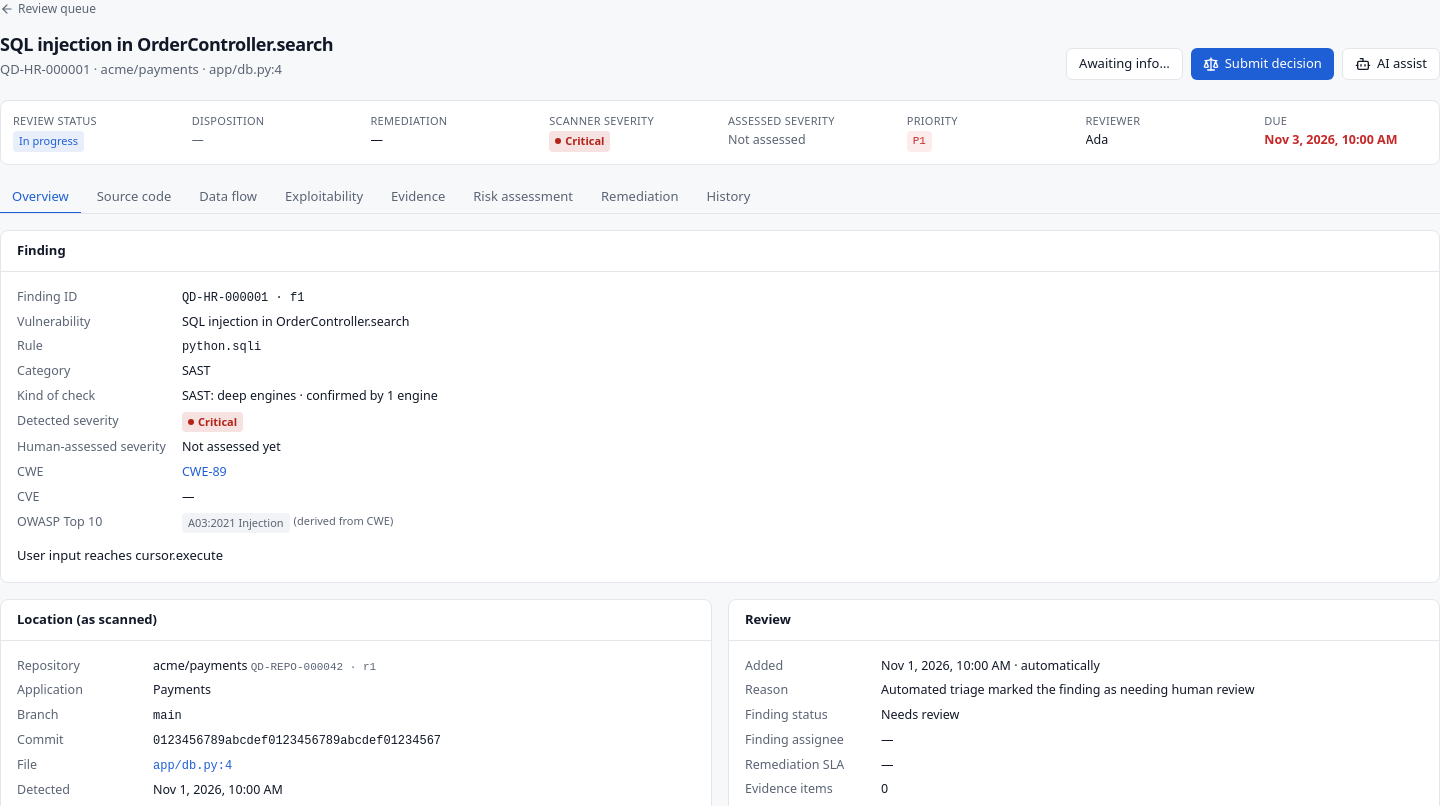
it: assessment workspace › submits a decision and shows the API's field errors
This screenshot has width=1440, height=806.
Click the button "Submit decision". click: (1262, 64)
box: [1191,48,1334,80]
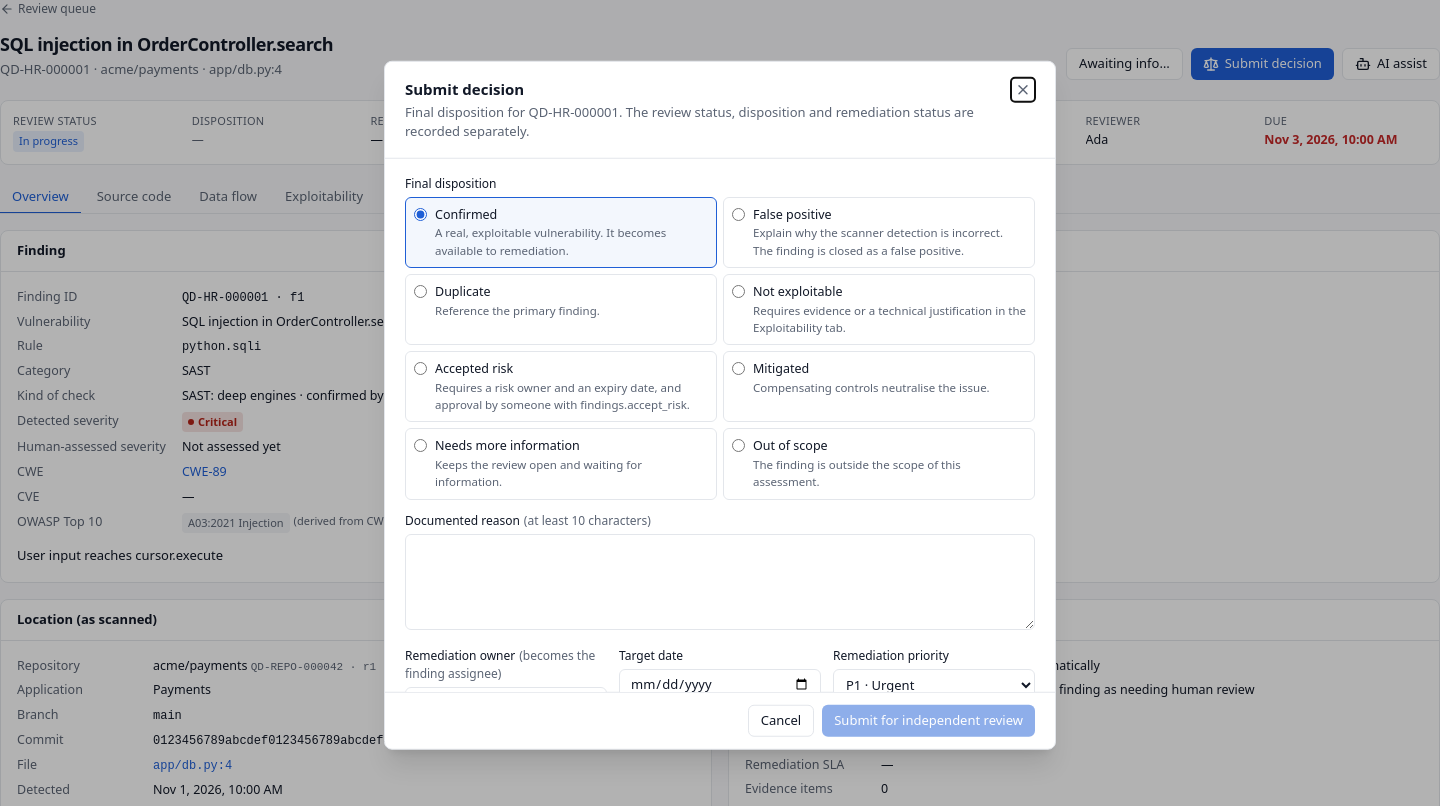
Click the radio button labelled "False positive". click: (738, 214)
box: [732,207,745,220]
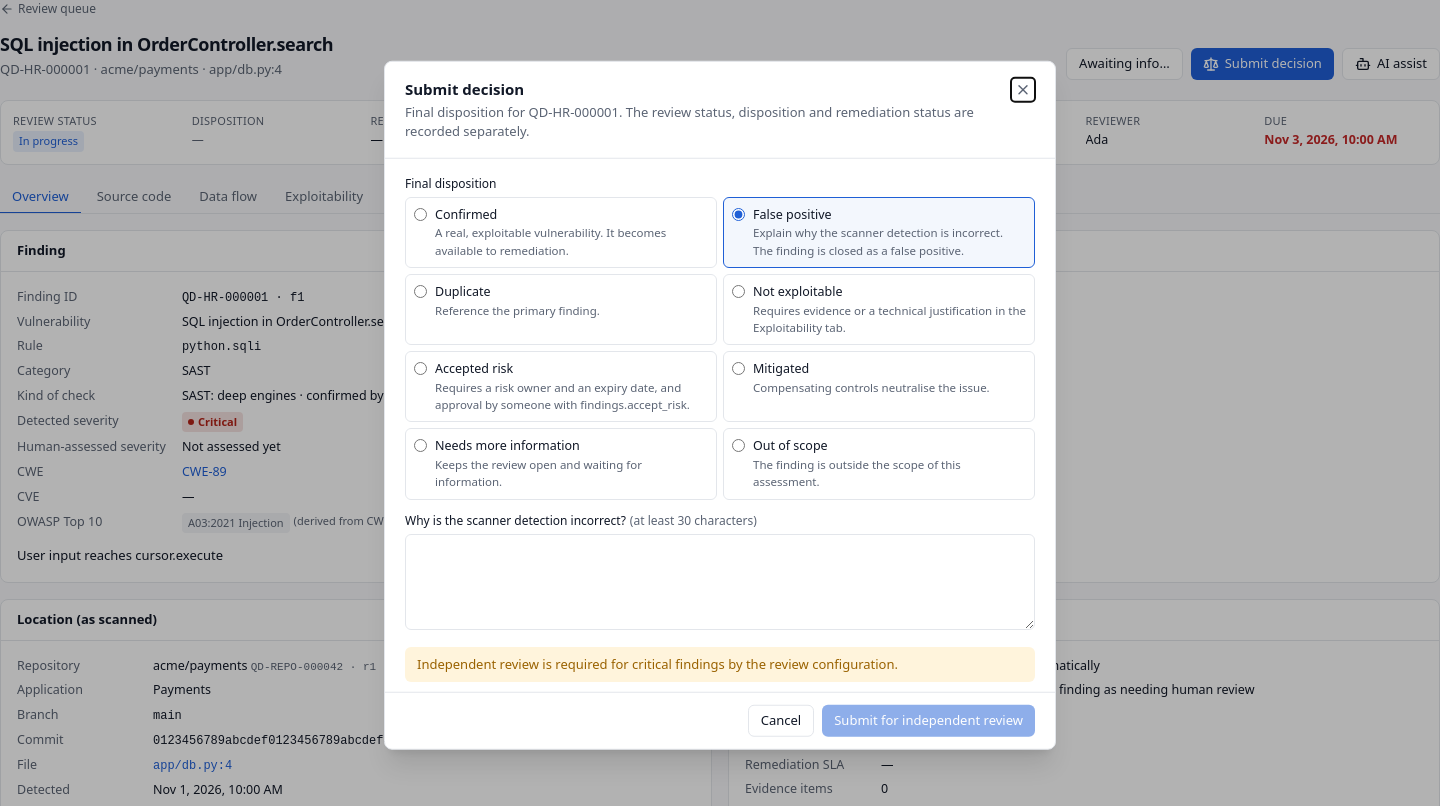
Result: the button "Submit for independent review" is disabled at [822,704,1035,736]
Type "The value comes from a constant allow-list." into the text box labelled "Why is the scanner detection incorrect". click: (720, 581)
box: [405,533,1035,629]
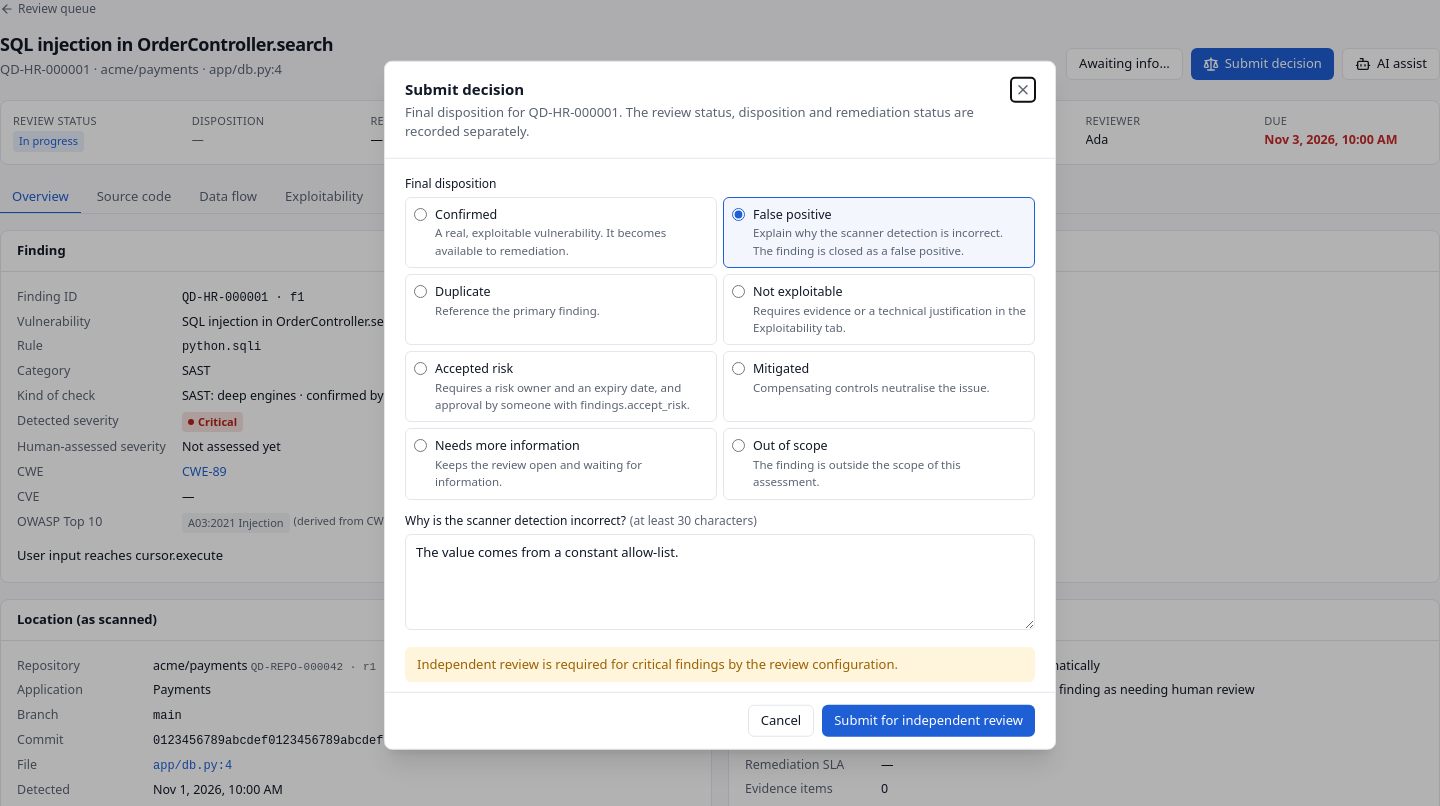
Click the button "Submit for independent review". click: (929, 720)
box: [822,704,1035,736]
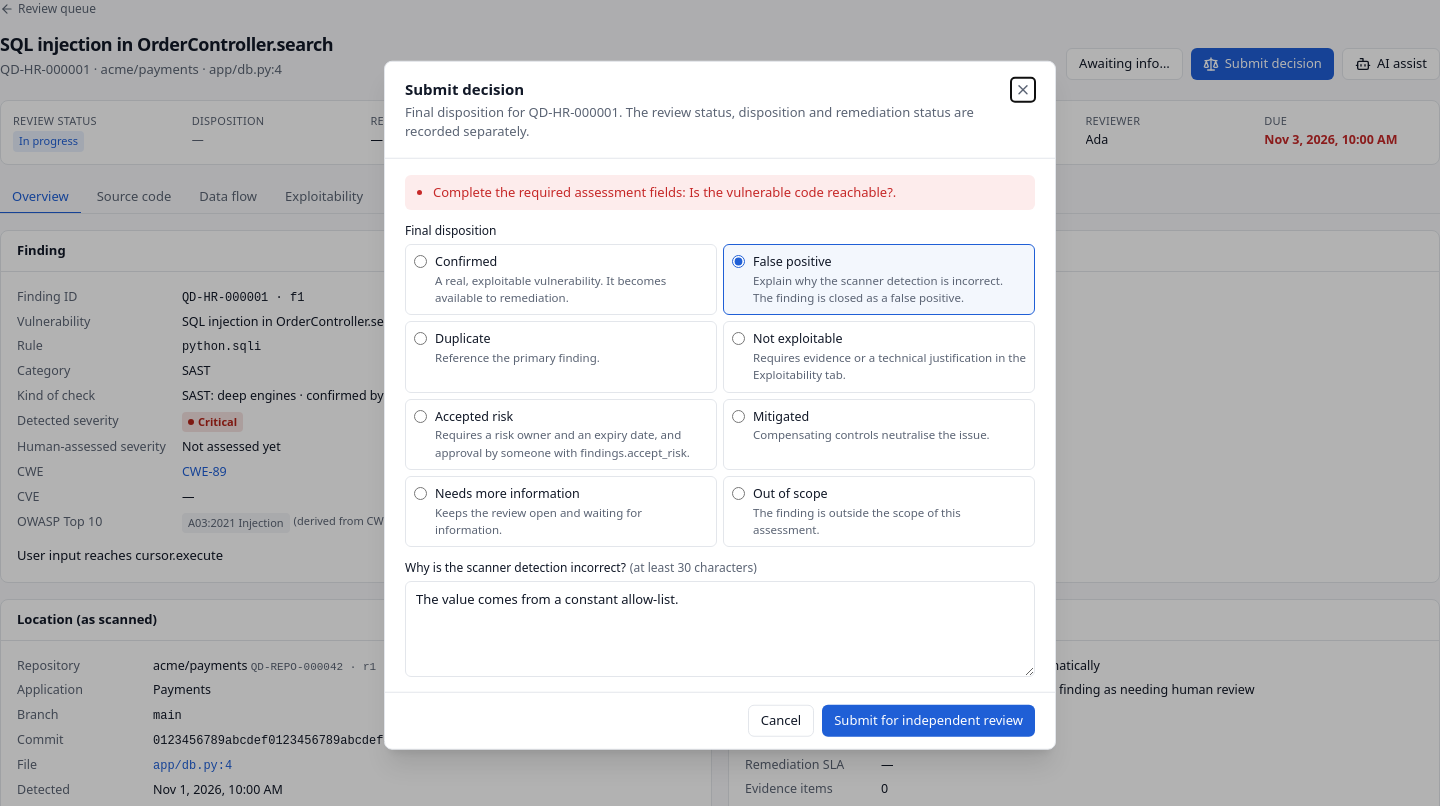
Result: the list item "Complete the required assessment fields" is shown at [433,182,896,200]
